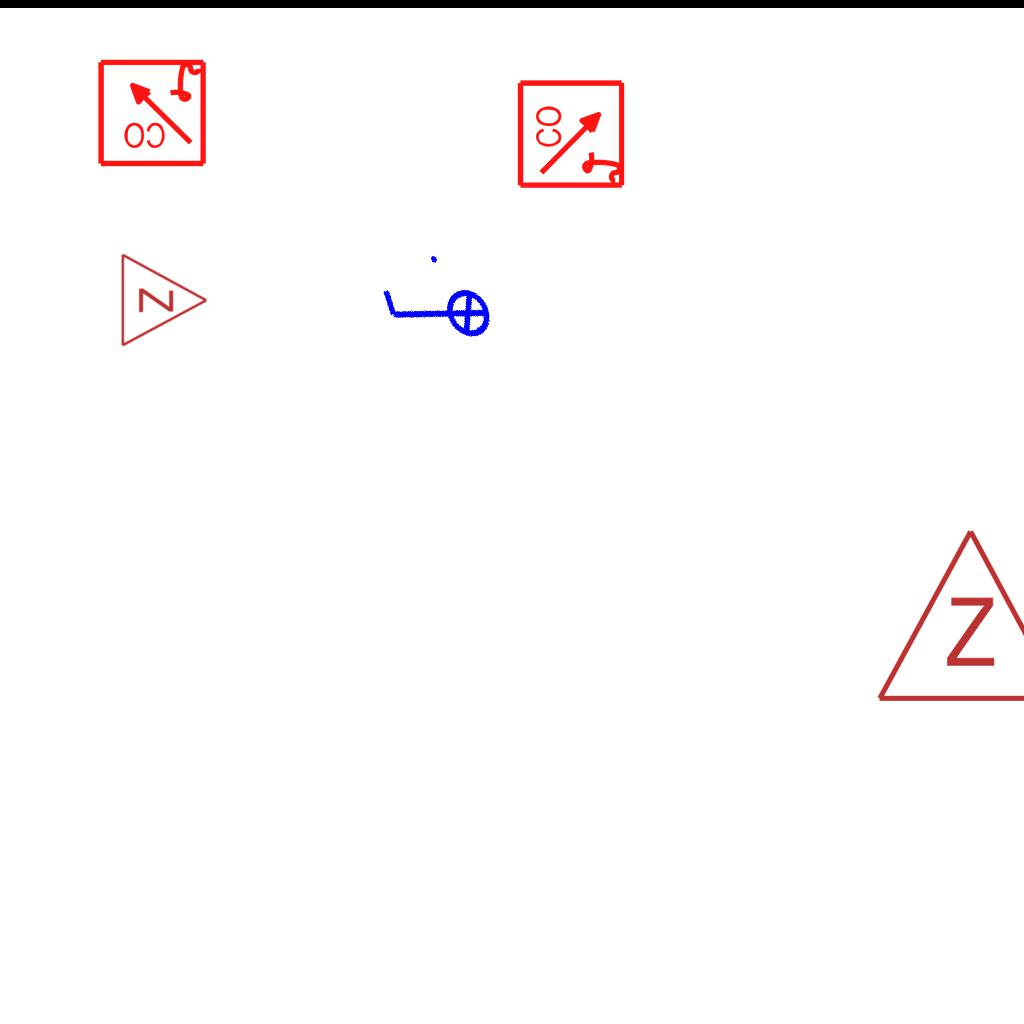Ausschalter_beleuchtet: (366, 239, 508, 387)
ROA_Rauchmelder_optisch_mit_Signalgeber_(Sockelsirene): (516, 77, 629, 190), (95, 55, 208, 168)
Zimmersignalleuchte: (870, 516, 1024, 716), (114, 250, 214, 348)
